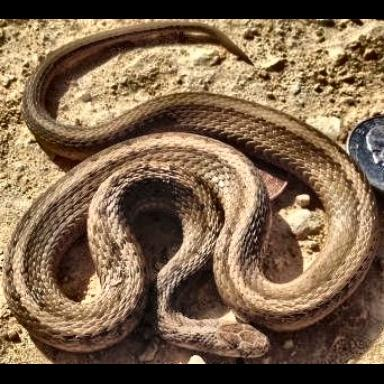snake: (5, 21, 384, 360)
